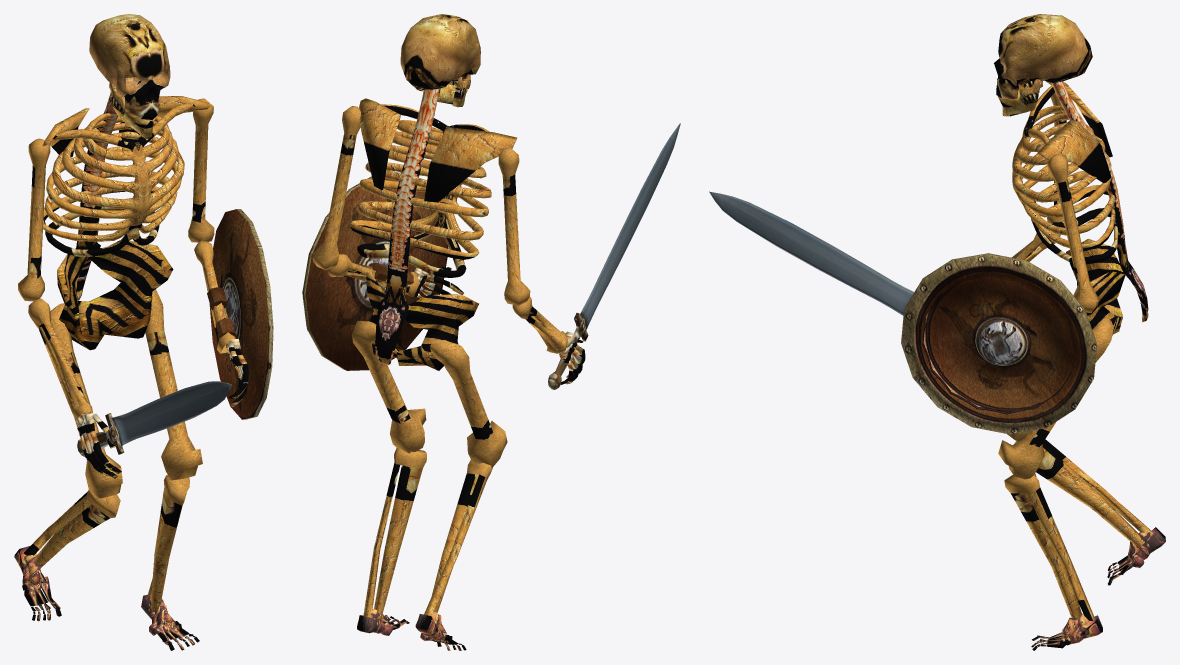
The model's file is Skeleton_000009.obj.
3 views of the same model, side by side, from view 1: azimuth 30°, elevation 25°; view 2: azimuth 150°, elevation 25°; view 3: azimuth 270°, elevation 25° (orthographic). The views are drawn at different scales.
Parts seen in each view (by area): view 1: Costillar, Shield_Shield.001, Coxis, Skull, Femur, Tibia, Humero, Sword, Radio, Feet, Hands, Omoplato (+1 smaller); view 2: Costillar, Shield_Shield.001, Tibia, Femur, Omoplato, Humero, Skull, Coxis, Sword, Radio, Feet, Hands (+1 smaller); view 3: Shield_Shield.001, Costillar, Tibia, Skull, Sword, Omoplato, Humero, Feet, Coxis, Femur, Mandibula.
Part boxes in pixels (x1,y1,x2,y2): Costillar: [43, 92, 195, 300]; Shield_Shield.001: [207, 209, 273, 419]; Coxis: [57, 240, 173, 350]; Skull: [89, 14, 170, 119]; Femur: [47, 289, 202, 498]; Tibia: [23, 475, 189, 611]; Humero: [18, 98, 214, 301]; Sword: [77, 381, 231, 456]; Radio: [28, 240, 235, 418]; Feet: [14, 546, 199, 650]; Hands: [76, 339, 248, 478]; Omoplato: [42, 96, 210, 157]; Costillar: [350, 88, 491, 365]; Shield_Shield.001: [302, 172, 448, 370]; Tibia: [363, 448, 492, 618]; Femur: [352, 320, 507, 467]; Omoplato: [358, 98, 516, 202]; Humero: [312, 106, 530, 305]; Skull: [400, 14, 480, 91]; Coxis: [366, 272, 478, 370]; Sword: [548, 123, 680, 389]; Radio: [327, 254, 567, 353]; Feet: [357, 609, 466, 650]; Hands: [414, 267, 585, 384]; Shield_Shield.001: [901, 253, 1096, 434]; Costillar: [1012, 81, 1148, 322]; Tibia: [1004, 439, 1152, 620]; Skull: [994, 14, 1092, 98]; Sword: [709, 191, 914, 315]; Omoplato: [1037, 81, 1112, 183]; Humero: [1047, 82, 1099, 312]; Feet: [1031, 527, 1165, 650]; Coxis: [1066, 238, 1125, 335]; Femur: [998, 318, 1113, 479]; Mandibula: [998, 79, 1042, 116].
Size of the model in its own units: 2.99 by 8.55 by 5.83.
Materials: 5 (5 with a texture image).
